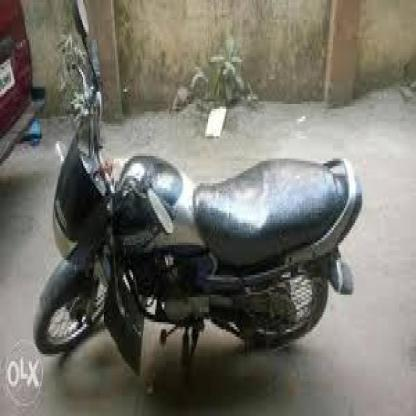bike: (33, 111, 363, 379)
